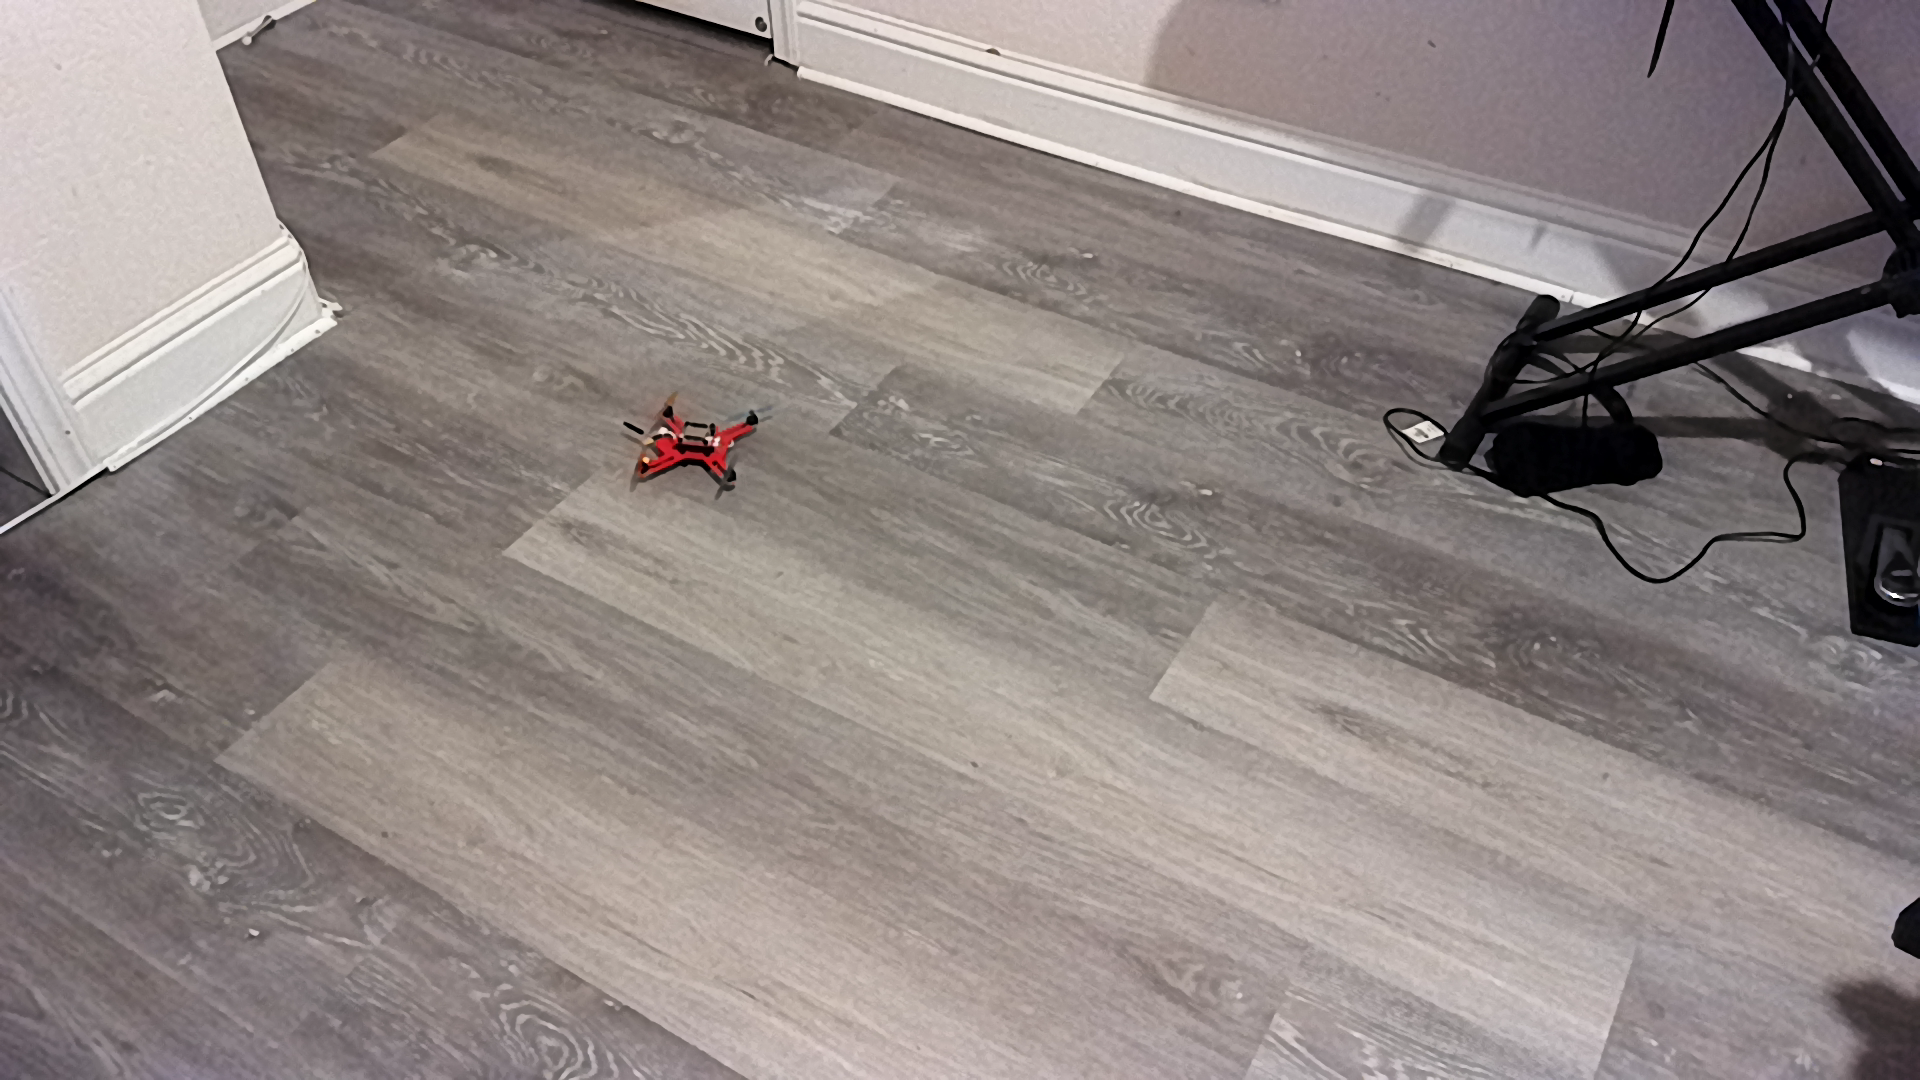drone: (612, 384, 812, 501)
